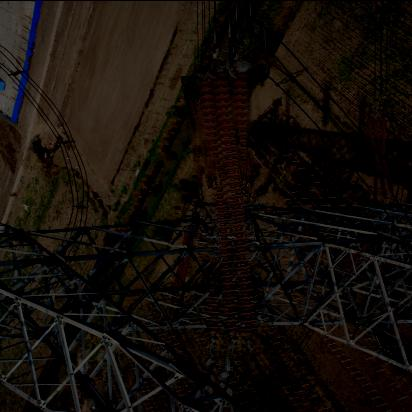insulator: (192, 70, 263, 358), (192, 96, 216, 189), (366, 117, 392, 200), (170, 227, 201, 291)
